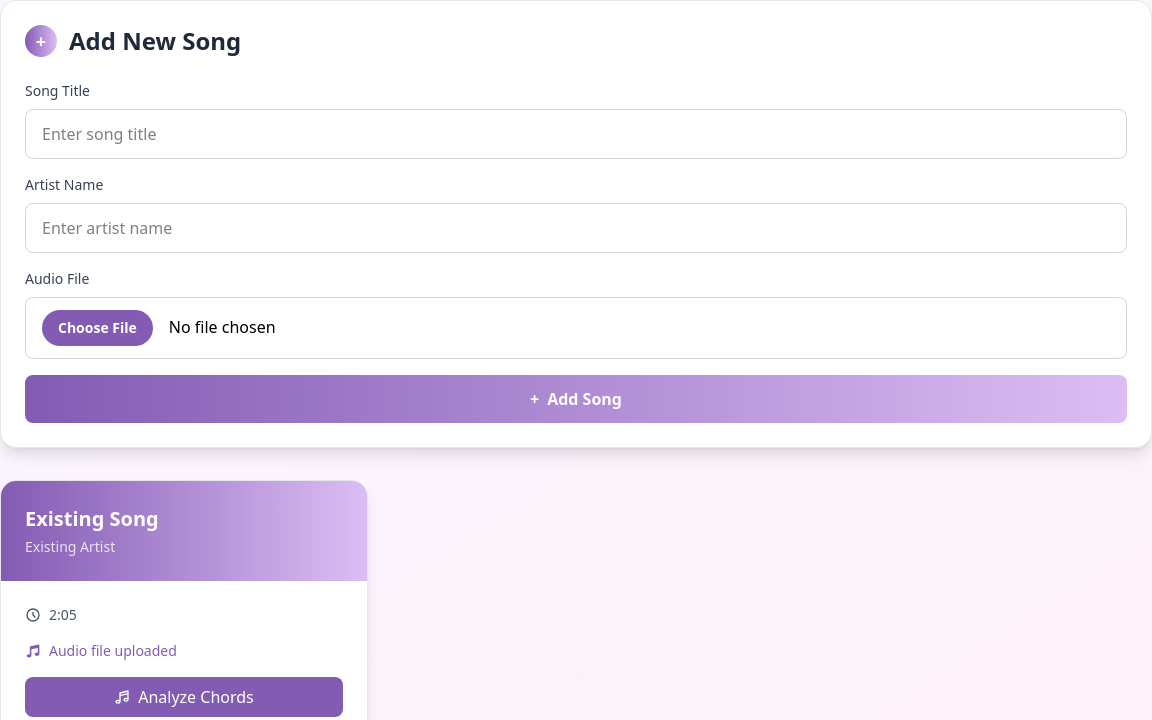
Test: SongListPage › updates a song after successful analysis
The width and height of the screenshot is (1152, 720).
Click the button "Analyze Chords": (184, 697) x1=25 y1=677 x2=343 y2=717
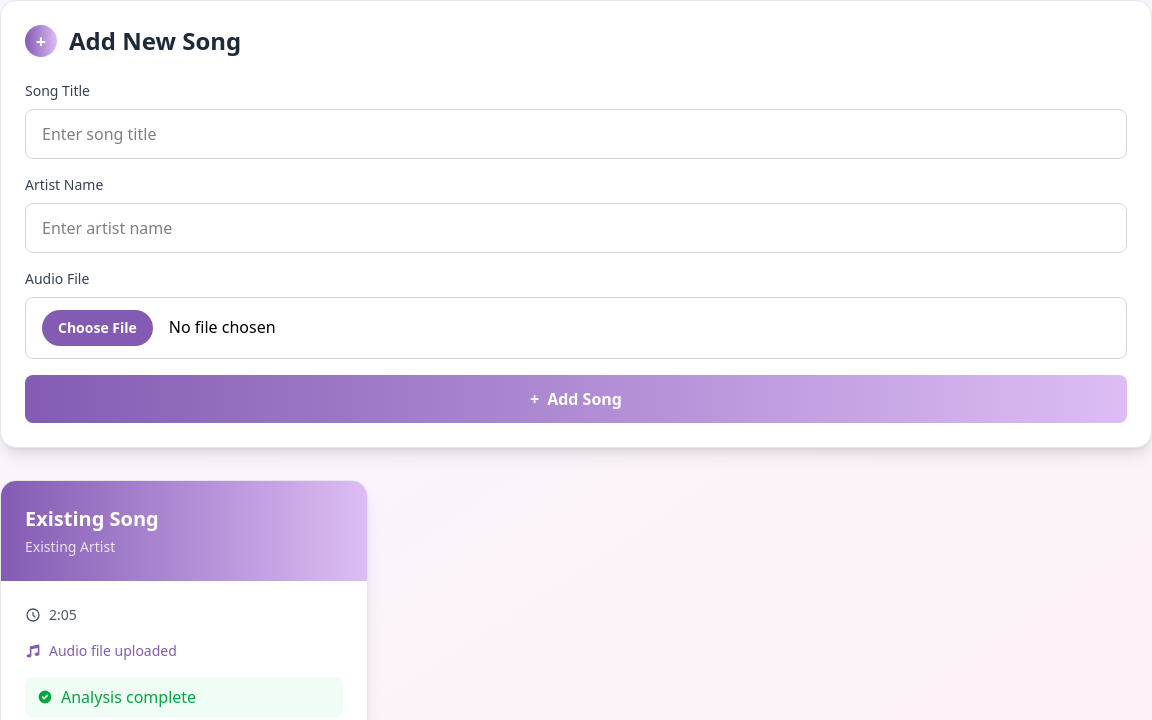
Now the text "Analysis complete" is shown, box x1=25 y1=677 x2=343 y2=717
